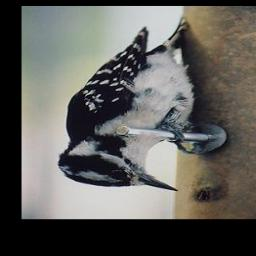Woodpecker: (57, 17, 204, 192)
